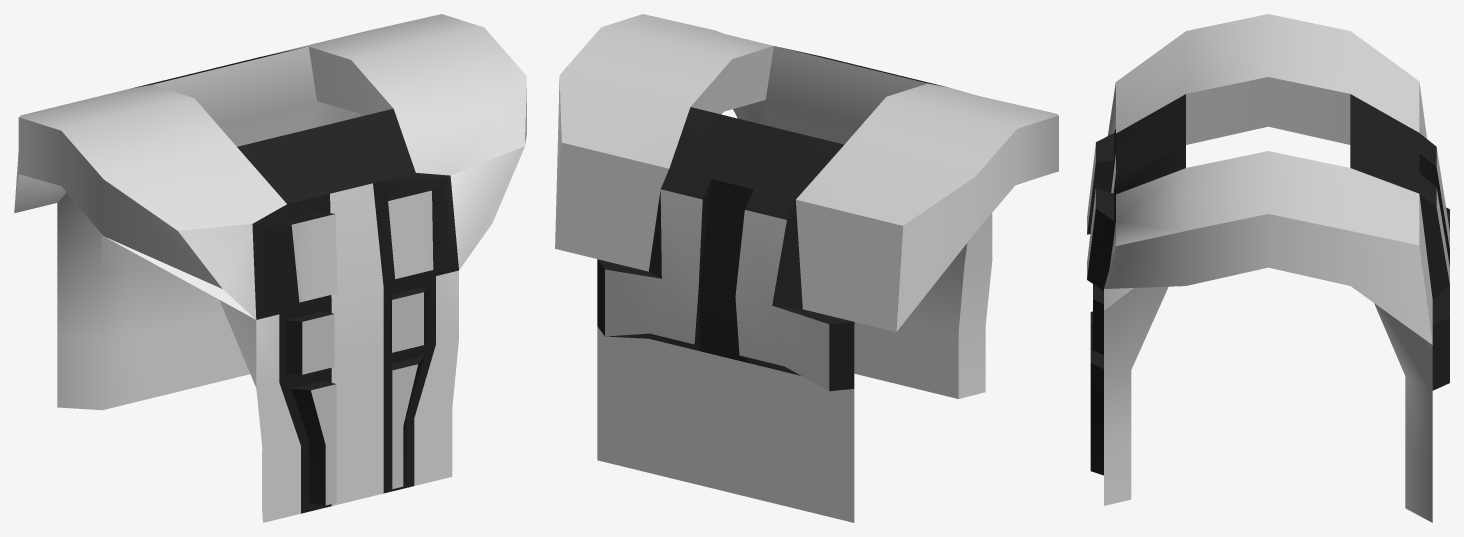
Rendered from Armor_Plating.fbx.
The picture shows the model from 3 angles, left to right: view 1: azimuth 30°, elevation 25°; view 2: azimuth 150°, elevation 25°; view 3: azimuth 270°, elevation 25°; orthographic projection. The views are drawn at different scales.
Parts seen in each view (by area): view 1: Armor_Plating; view 2: Armor_Plating; view 3: Armor_Plating.
Part boxes in pixels (<box>): Armor_Plating: <box>14,14,526,522</box>; Armor_Plating: <box>555,14,1058,522</box>; Armor_Plating: <box>1087,14,1449,522</box>.
Size of the model in its own units: 53.8 by 43.59 by 41.27.
Materials: 1 (1 with a texture image).
